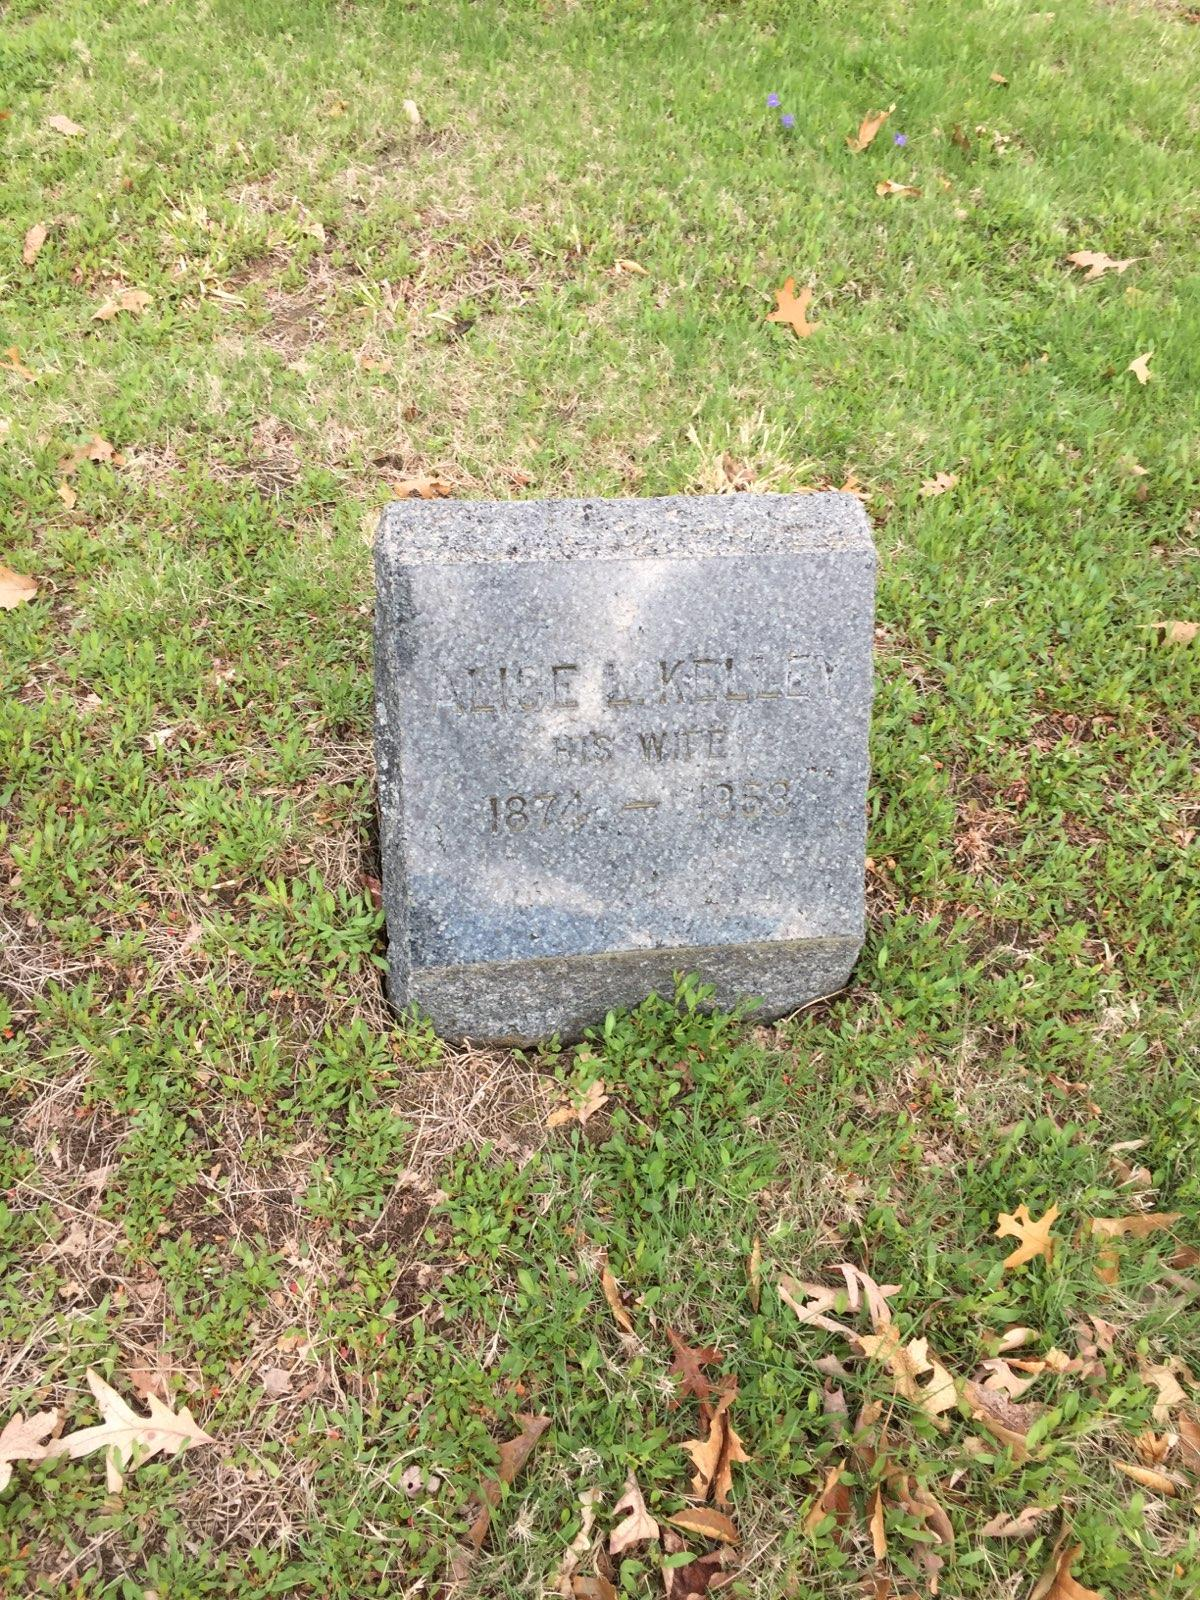slant: (368, 486, 882, 1010)
